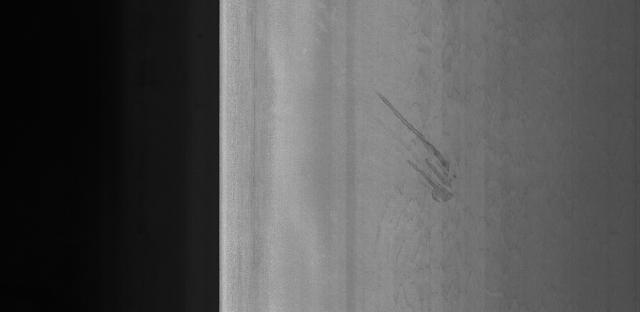silk_spot: (480, 35, 626, 262)
water_spot: (375, 92, 468, 210)
